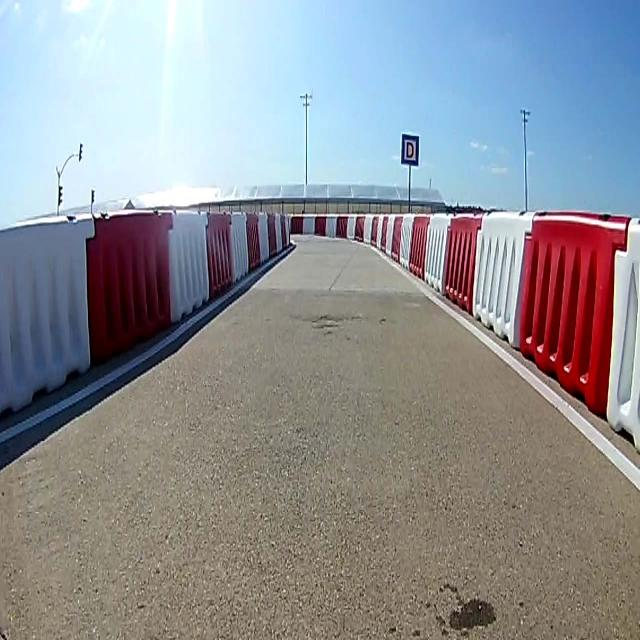durak: (401, 132, 418, 164)
